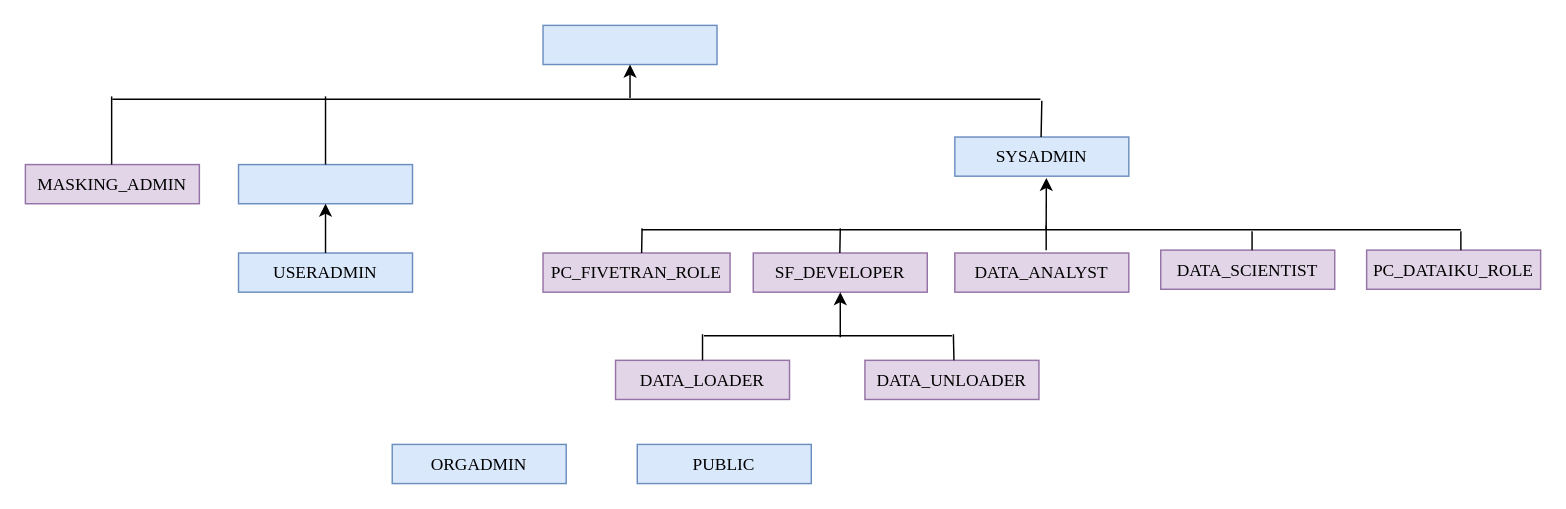
Some shapes in this 1566 by 509 pixel diagram are drawn without their labels. Each missing label, with the box of its shape:
ACCOUNTADMIN: (542, 24, 717, 65)
SECURITYADMIN: (237, 163, 413, 204)
